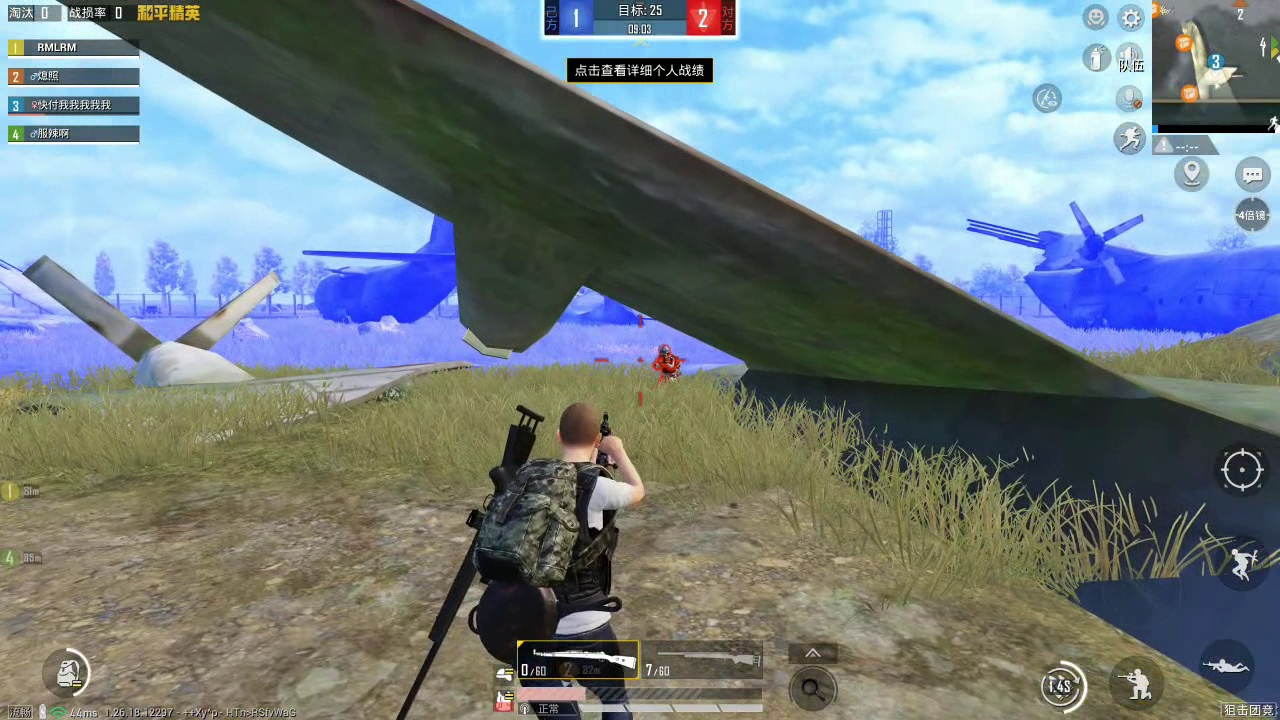enemy: (652, 344, 683, 383)
